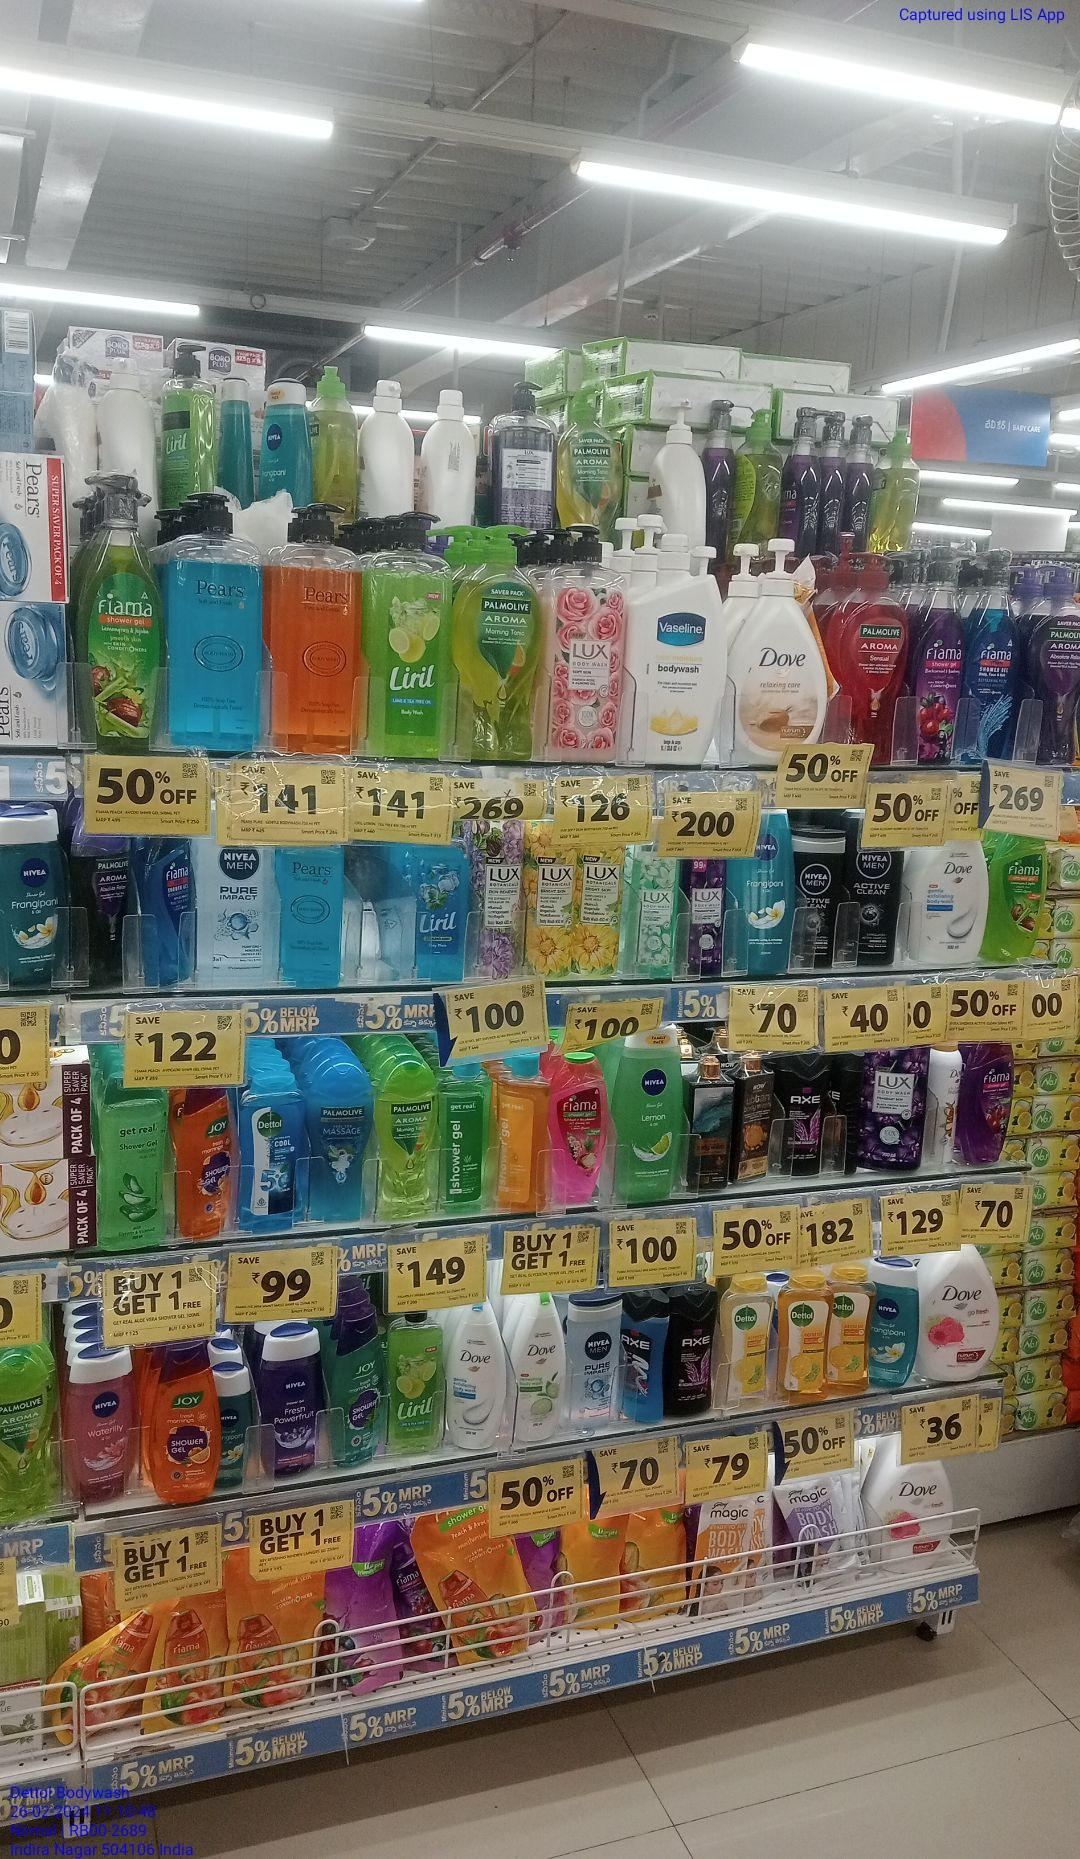Dettol_Bodywash_Cool: (235, 1068, 303, 1232)
Dettol_Bodywash_Refresh: (721, 1270, 774, 1414), (777, 1268, 828, 1406), (824, 1252, 869, 1395)
Dove_Gentle_Exfoliating_Body_Wash_250ML: (444, 1301, 507, 1450), (917, 832, 986, 963)
Dove_Refreshing_Body_Wash_250ML: (510, 1292, 562, 1444)
Fiama_Shower_Gel_Lemongrass_and_Jojoba_250ML: (990, 832, 1045, 959)
Fiama_Shower_Gel_Patchouli_and_Macadamia_250ML: (550, 1049, 607, 1201)
Get_Real_Shower_Gel_Moisturising_Glycerin_300ML: (489, 1046, 549, 1216)
Joy_Shower_Gel_Mint_and_Eucalyptus_250ML: (150, 1340, 219, 1503)
Lux_Black_Orchid_Scent_and_Juniper_Oil_Body_Wash_245ML: (680, 859, 730, 976)
Lux_Body_Wash_Skin_Detox_Freesia_Scent_and_Alove_Vera_245ML: (626, 846, 676, 978)
Nivea_Shower_Gel_Frangipani_and_Oil_250ML: (0, 804, 68, 992)
Nivea_Shower_Gel_Fresh_Powerfruit_250ML: (256, 1318, 320, 1473)
Nivea_Shower_Gel_Lemon_and_Oil_250ML: (615, 1028, 683, 1199)
Nivea_Shower_Gel_Waterlily_and_Oil_250ML: (64, 1341, 138, 1500)
